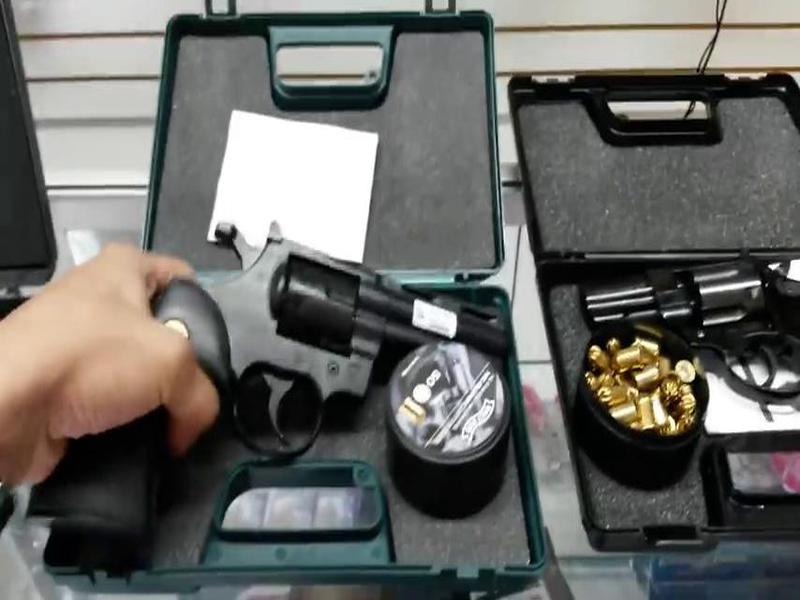Revolver: (59, 213, 516, 534), (569, 231, 800, 428)
